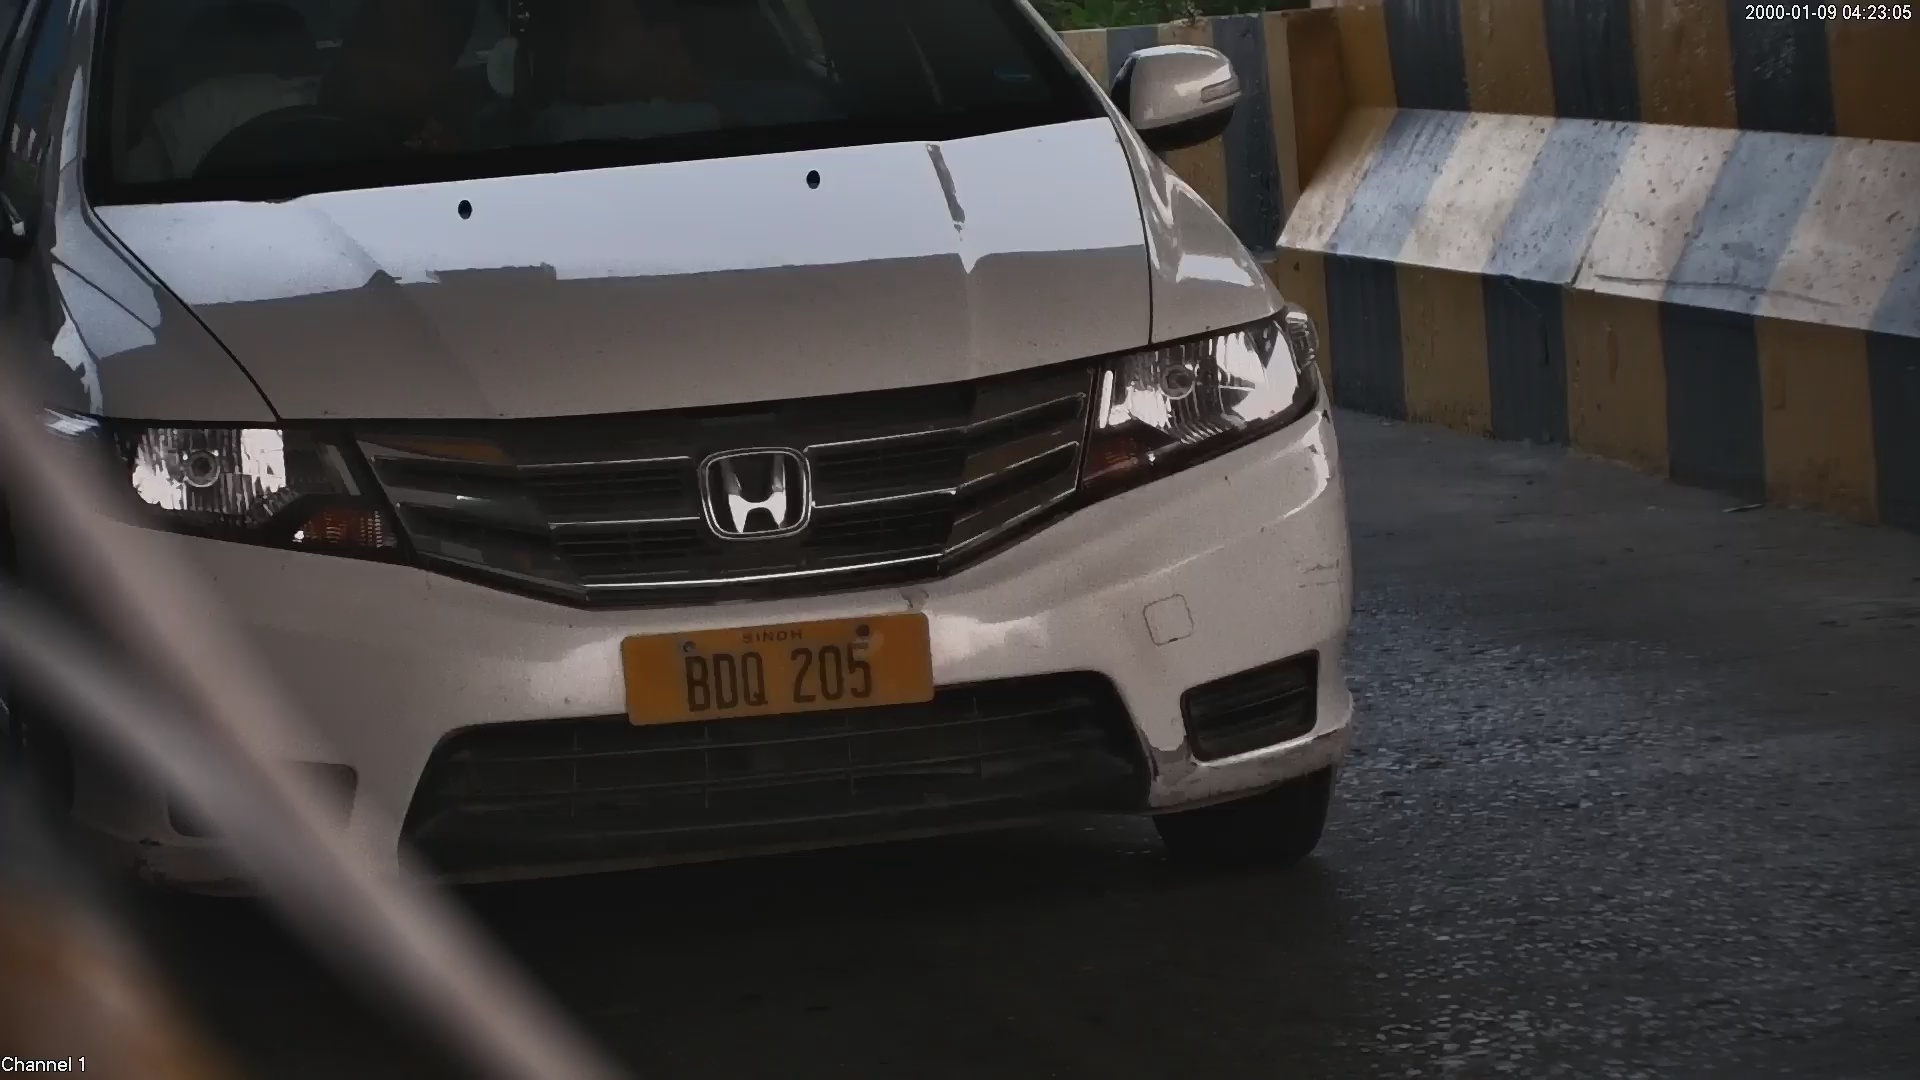Number_Plate: (606, 614, 945, 725)
Undefined: (104, 409, 354, 553), (1115, 346, 1300, 466), (693, 444, 828, 540)
